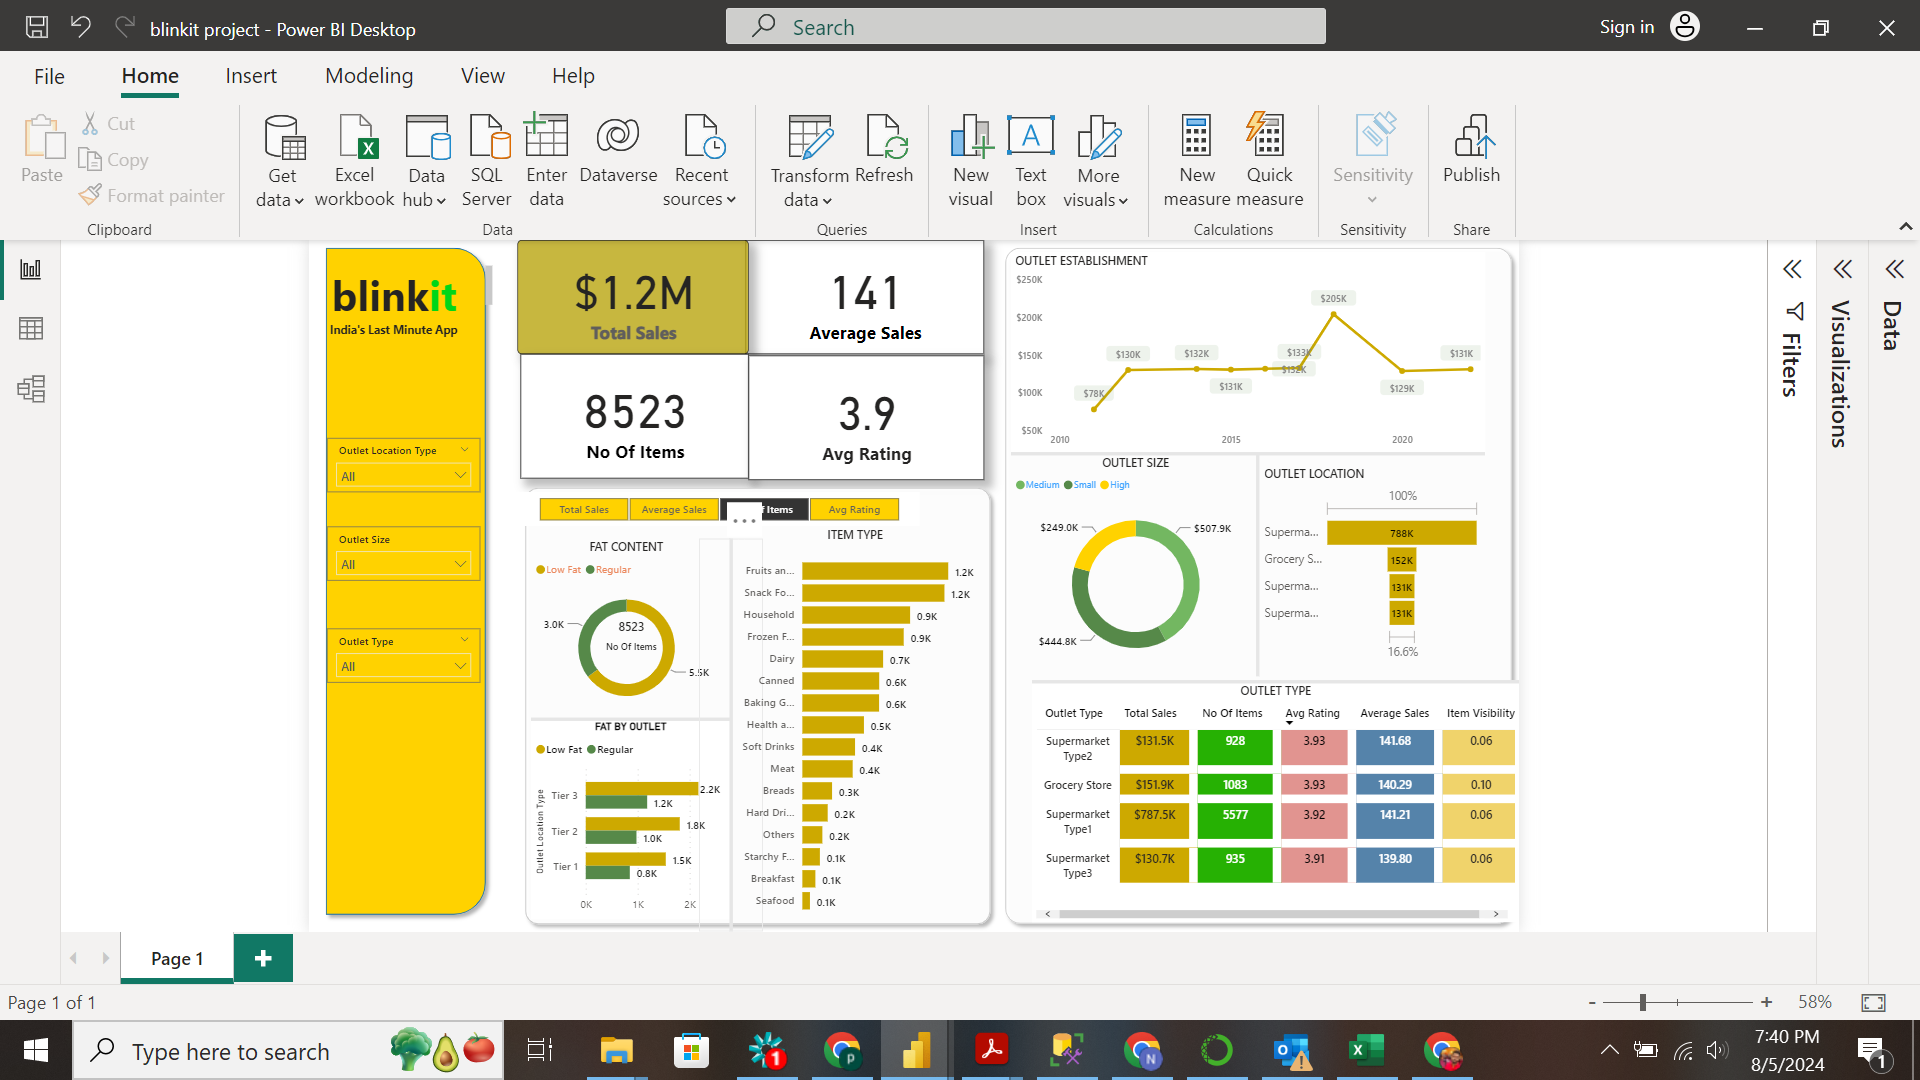

The dashboard page shown, as its layout file describes it:
{"tool":"powerbi","page":{"name":"Page 1","canvas":[1400,800],"ordinal":0},"visuals":[{"type":"shape","box":[10.4,0,203,789.6],"z":0},{"type":"textbox","box":[20.7,24.8,196.4,64.1],"z":1000},{"type":"textbox","box":[19.1,88.5,196.1,71.1],"z":2000},{"type":"card","fields":{"Values":["BlinkIT Grocery Data.Average Sales"]},"box":[505,0,275.9,131.9],"z":3000},{"type":"card","fields":{"Values":["BlinkIT Grocery Data.Total Sales"]},"box":[241.2,0,267.2,131.9],"z":4000},{"type":"card","fields":{"Values":["BlinkIT Grocery Data.No Of Items"]},"box":[244.7,131.9,263.8,144],"z":5000},{"type":"card","fields":{"Values":["BlinkIT Grocery Data.Avg Rating"]},"box":[508.5,133.6,272.5,144],"z":6000},{"type":"shape","box":[241.8,277,556,522.9],"z":7000},{"type":"donutChart","title":"FAT CONTENT","fields":{"Y":["BlinkIT Grocery Data.No Of Items"],"Category":["BlinkIT Grocery Data.Item Fat Content"]},"box":[256.8,345.3,220.4,208.2],"z":8000},{"type":"slicer","fields":{"Values":["Metrics.Metrics"]},"box":[241.8,291.4,465.1,39.3],"z":9000},{"type":"card","fields":{"Values":["BlinkIT Grocery Data.No Of Items"]},"box":[299.7,401,144.7,111.6],"z":10000},{"type":"clusteredBarChart","title":"FAT BY OUTLET","fields":{"Y":["BlinkIT Grocery Data.No Of Items"],"Category":["BlinkIT Grocery Data.Outlet Location Type"],"Series":["BlinkIT Grocery Data.Item Fat Content"]},"box":[256.8,555.3,230.8,230.8],"z":11000},{"type":"shape","box":[256.8,505,230.8,98.9],"z":12000},{"type":"shape","box":[450.6,345.2,74.4,454.7],"z":13000},{"type":"barChart","title":"ITEM TYPE","fields":{"Y":["BlinkIT Grocery Data.No Of Items"],"Category":["BlinkIT Grocery Data.Item Type"]},"box":[482.4,331.5,298.5,458.1],"z":14000},{"type":"shape","box":[796.5,0,603.9,800],"z":15000},{"type":"lineChart","title":"OUTLET ESTABLISHMENT","fields":{"Y":["BlinkIT Grocery Data.Total Sales"],"Category":["BlinkIT Grocery Data.Outlet Establishment Year"]},"box":[812.1,13.9,548.4,234.3],"z":16000},{"type":"shape","box":[812.1,197.8,548.4,98.9],"z":17000},{"type":"donutChart","title":"OUTLET SIZE","fields":{"Y":["BlinkIT Grocery Data.Total Sales"],"Category":["BlinkIT Grocery Data.Outlet Size"]},"box":[812.1,248.2,288.1,256.8],"z":18000},{"type":"shape","box":[1060.3,248.2,74.6,256.8],"z":19000},{"type":"funnel","title":"OUTLET LOCATION","fields":{"Category":["BlinkIT Grocery Data.Outlet Type"],"Y":["Sum(BlinkIT Grocery Data.Sales)"]},"box":[1100.2,260.3,260.3,230.8],"z":20000},{"type":"pivotTable","title":"OUTLET TYPE","fields":{"Rows":["BlinkIT Grocery Data.Outlet Type"],"Values":["BlinkIT Grocery Data.Total Sales","BlinkIT Grocery Data.No Of Items","BlinkIT Grocery Data.Avg Rating","BlinkIT Grocery Data.Average Sales","Avg(BlinkIT Grocery Data.Item Visibility)"]},"box":[836.4,511.9,564,277.7],"z":21000},{"type":"shape","box":[836.4,461.6,564,98.9],"z":22000},{"type":"slicer","fields":{"Values":["BlinkIT Grocery Data.Outlet Location Type"]},"box":[20.8,229.1,177,62.5],"z":23000},{"type":"slicer","fields":{"Values":["BlinkIT Grocery Data.Outlet Size"]},"box":[20.8,331.5,177,62.5],"z":24000},{"type":"slicer","fields":{"Values":["BlinkIT Grocery Data.Outlet Type"]},"box":[20.8,449.5,177,62.5],"z":25000}]}

Visuals, with their boxes on the page's 1400x800 design canvas (x1, y1, x2, y2). These are canvas units, not pixel positions in the 1920x1080 screenshot, which may show the page scaled, cropped or inside an application window:
shape: (left=10, top=0, right=213, bottom=790)
textbox: (left=21, top=25, right=217, bottom=89)
textbox: (left=19, top=88, right=215, bottom=160)
card - BlinkIT Grocery Data.Average Sales: (left=505, top=0, right=781, bottom=132)
card - BlinkIT Grocery Data.Total Sales: (left=241, top=0, right=508, bottom=132)
card - BlinkIT Grocery Data.No Of Items: (left=245, top=132, right=508, bottom=276)
card - BlinkIT Grocery Data.Avg Rating: (left=508, top=134, right=781, bottom=278)
shape: (left=242, top=277, right=798, bottom=800)
"FAT CONTENT" donutChart: (left=257, top=345, right=477, bottom=554)
slicer - Metrics.Metrics: (left=242, top=291, right=707, bottom=331)
card - BlinkIT Grocery Data.No Of Items: (left=300, top=401, right=444, bottom=513)
"FAT BY OUTLET" clusteredBarChart: (left=257, top=555, right=488, bottom=786)
shape: (left=257, top=505, right=488, bottom=604)
shape: (left=451, top=345, right=525, bottom=800)
"ITEM TYPE" barChart: (left=482, top=332, right=781, bottom=790)
shape: (left=796, top=0, right=1400, bottom=800)
"OUTLET ESTABLISHMENT" lineChart: (left=812, top=14, right=1360, bottom=248)
shape: (left=812, top=198, right=1360, bottom=297)
"OUTLET SIZE" donutChart: (left=812, top=248, right=1100, bottom=505)
shape: (left=1060, top=248, right=1135, bottom=505)
"OUTLET LOCATION" funnel: (left=1100, top=260, right=1360, bottom=491)
"OUTLET TYPE" pivotTable: (left=836, top=512, right=1400, bottom=790)
shape: (left=836, top=462, right=1400, bottom=560)
slicer - BlinkIT Grocery Data.Outlet Location Type: (left=21, top=229, right=198, bottom=292)
slicer - BlinkIT Grocery Data.Outlet Size: (left=21, top=332, right=198, bottom=394)
slicer - BlinkIT Grocery Data.Outlet Type: (left=21, top=450, right=198, bottom=512)
